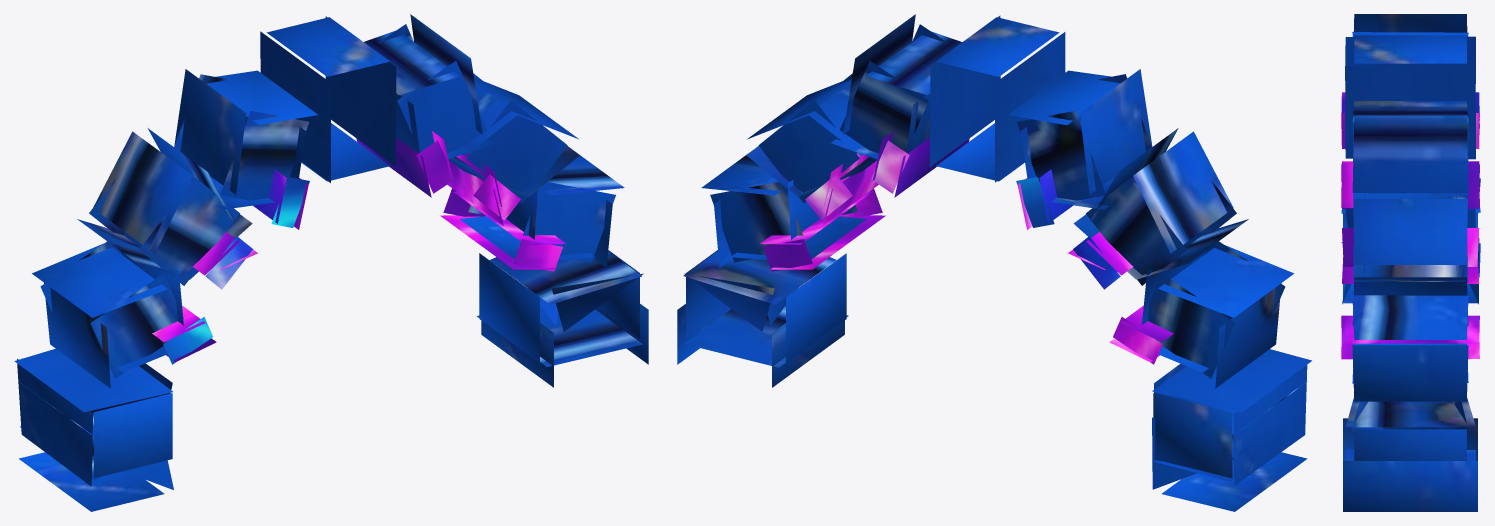
The model's file is tunel_arco_lod.glb.
3 views of the same model, side by side, from view 1: azimuth 30°, elevation 25°; view 2: azimuth 150°, elevation 25°; view 3: azimuth 270°, elevation 25° (orthographic). The views are drawn at different scales.
Parts seen in each view (by area): view 1: tunel_arco; view 2: tunel_arco; view 3: tunel_arco.
Boxes of the visible parts, left/top/right/bottom form: tunel_arco: left=14, top=14, right=648, bottom=511; tunel_arco: left=677, top=14, right=1311, bottom=511; tunel_arco: left=1341, top=14, right=1480, bottom=511.
Size of the model in its own units: 0.992 by 0.625 by 0.2297.
2 materials, 2 textured.
